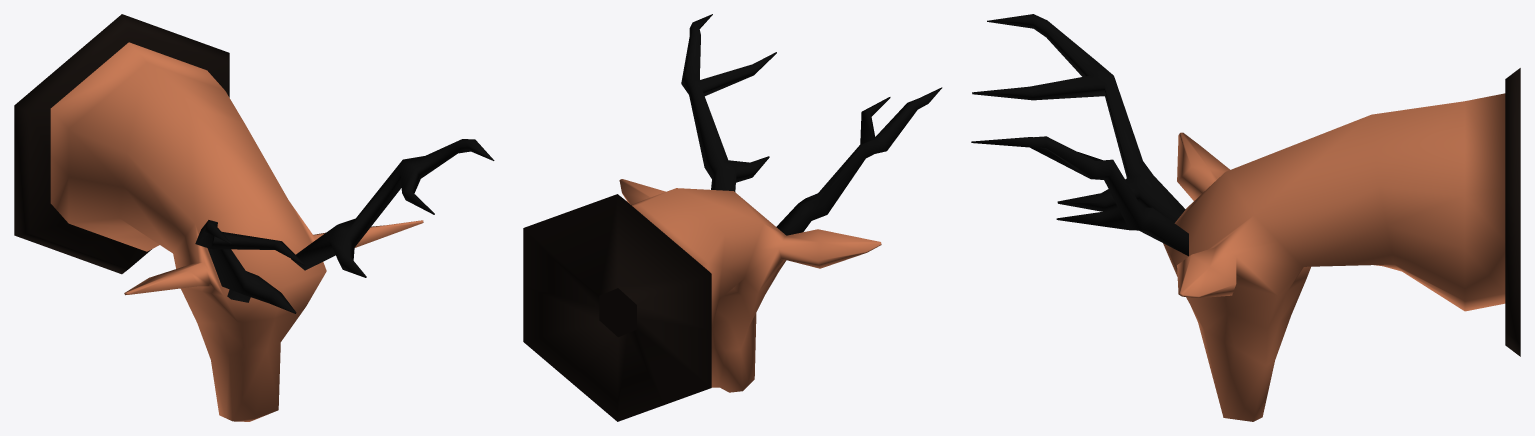
Rendered from DeerHead.fbx.
3 renders of one model, left to right at view 1: azimuth 30°, elevation 25°; view 2: azimuth 150°, elevation 25°; view 3: azimuth 270°, elevation 25°, orthographic. The views are drawn at different scales.
Visible parts, largest first — view 1: DeerHead_Main; view 2: DeerHead_Main; view 3: DeerHead_Main.
Part boxes in pixels (x1,y1,x2,y2): DeerHead_Main: [14, 14, 494, 421]; DeerHead_Main: [523, 14, 942, 421]; DeerHead_Main: [971, 14, 1520, 421].
Bounding box in the file's own units: 54.26 × 54.99 × 77.68.
